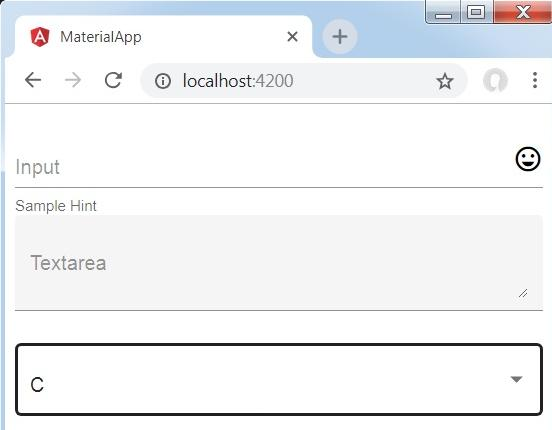field: (12, 342, 544, 418)
field_line: (11, 253, 547, 313), (11, 153, 544, 190)
